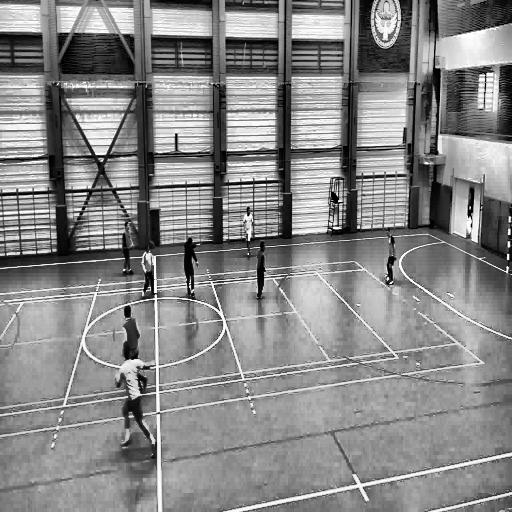ball: (385, 275, 392, 286)
player: (116, 344, 160, 461), (122, 304, 148, 394), (184, 237, 202, 302), (140, 242, 158, 301), (384, 226, 397, 286), (255, 241, 267, 302), (122, 220, 134, 278), (243, 205, 255, 259)
